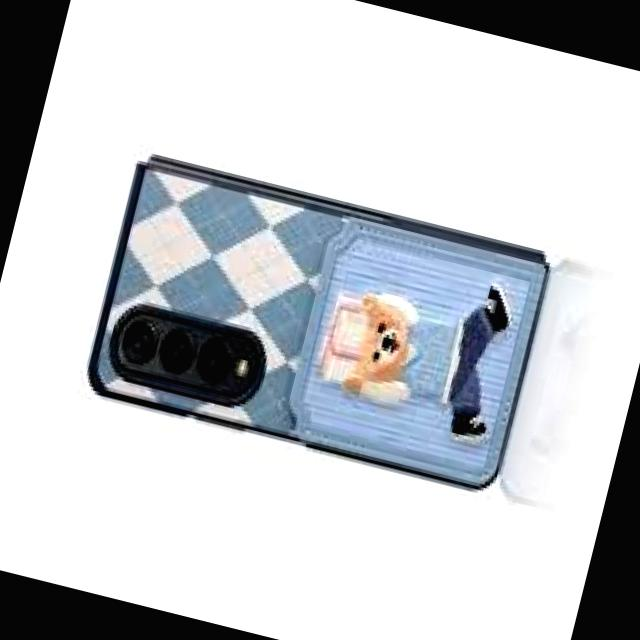lens_back: (143, 314, 206, 389), (107, 308, 168, 374), (189, 327, 244, 394)
phone: (68, 141, 558, 504)
